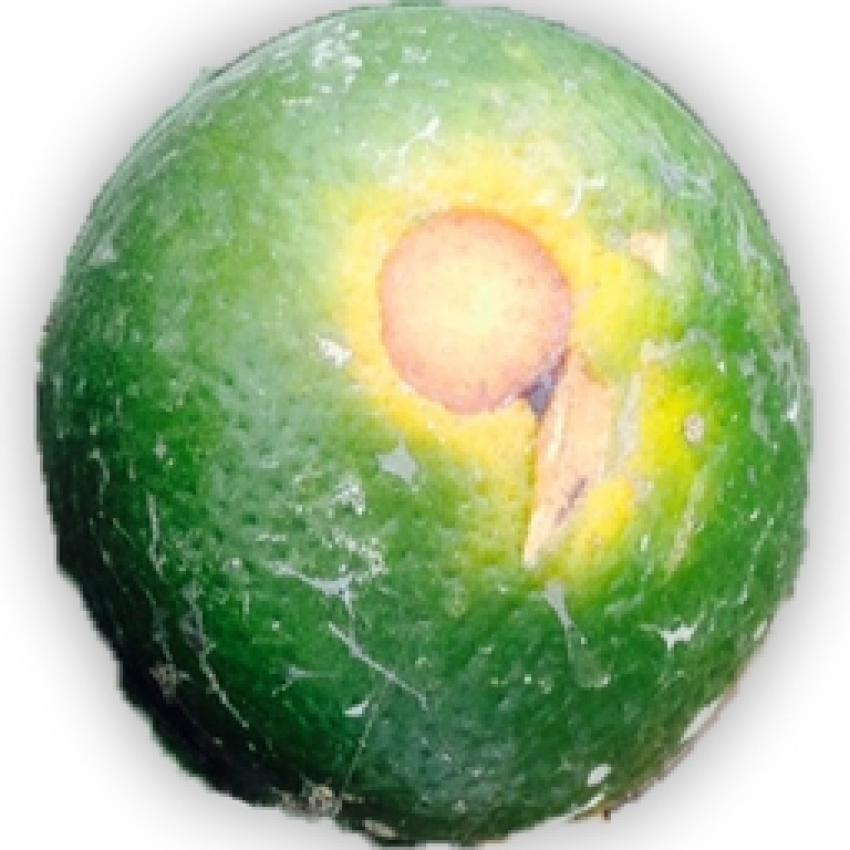Mal estado: (13, 0, 822, 845)
